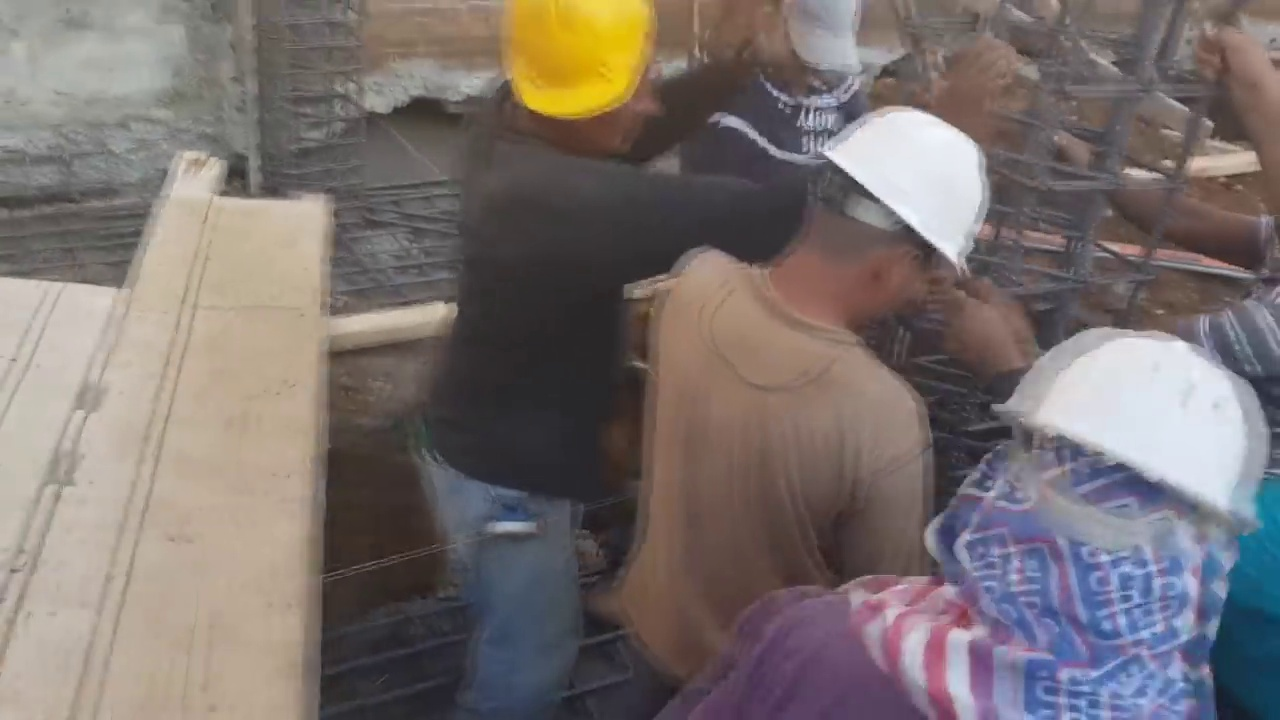helmet: (1005, 323, 1268, 521), (812, 96, 984, 288), (501, 5, 658, 118)
helmet-off: (757, 6, 860, 102)
helmet-on: (930, 323, 1271, 653), (765, 94, 990, 324), (493, 6, 668, 163)
person: (656, 323, 1278, 720), (592, 95, 987, 687), (416, 8, 738, 713), (680, 8, 896, 191)
